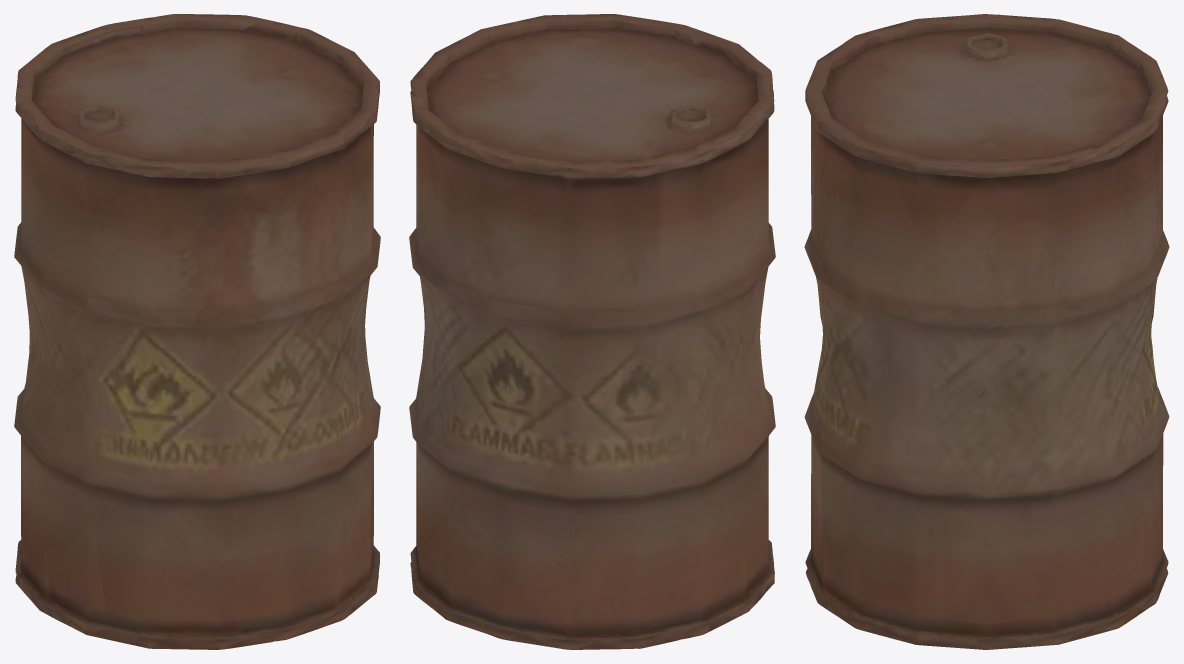
File: prop-barrel.glb
3 views of the same model, side by side, from view 1: azimuth 30°, elevation 25°; view 2: azimuth 150°, elevation 25°; view 3: azimuth 270°, elevation 25° (orthographic).
Parts seen in each view (by area): view 1: Mesh_0; view 2: Mesh_0; view 3: Mesh_0.
Part boxes in pixels (x1=…): Mesh_0: x1=14, y1=14, x2=380, y2=649; Mesh_0: x1=409, y1=14, x2=775, y2=649; Mesh_0: x1=804, y1=14, x2=1169, y2=649.
Bounding box in the file's own units: 1.31 × 1.91 × 1.31.
1 material, 1 textured.
